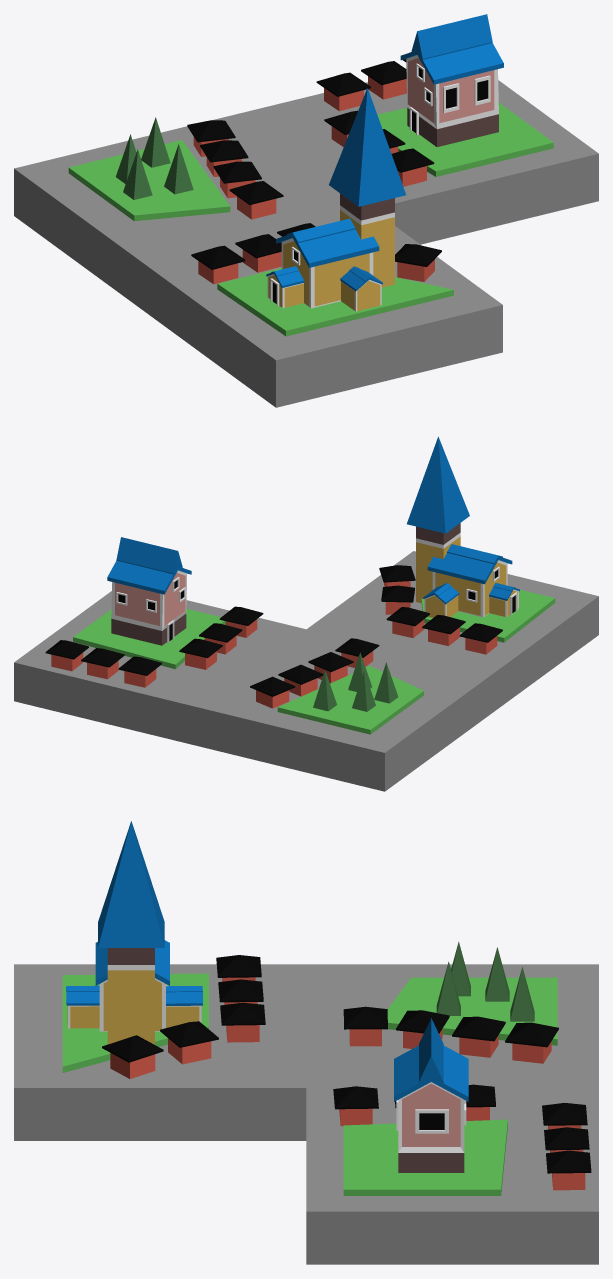
3 renders of one model, top to bottom at view 1: azimuth 30°, elevation 25°; view 2: azimuth 150°, elevation 25°; view 3: azimuth 270°, elevation 25°, orthographic. The views are drawn at different scales.
Parts seen in each view (by area): view 1: Mesh_L_V3.001, Mesh_L_V3; view 2: Mesh_L_V3.001, Mesh_L_V3; view 3: Mesh_L_V3.001, Mesh_L_V3.
Boxes of the visible parts, x1,y1,x2,y2 form: Mesh_L_V3.001: (14, 80, 598, 407); Mesh_L_V3: (68, 14, 553, 336); Mesh_L_V3.001: (14, 551, 598, 791); Mesh_L_V3: (45, 436, 555, 734); Mesh_L_V3.001: (14, 964, 598, 1264); Mesh_L_V3: (62, 821, 591, 1195).
Bounding box in the file's own units: 200 × 104 × 200.
